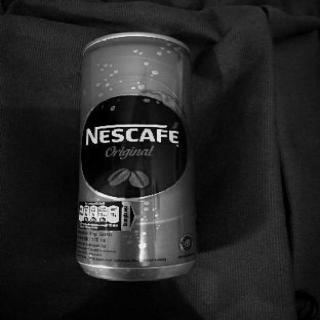alumunium_can: (74, 30, 200, 281)
